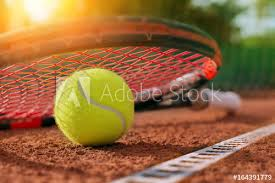tennis_ball: (52, 67, 135, 148)
